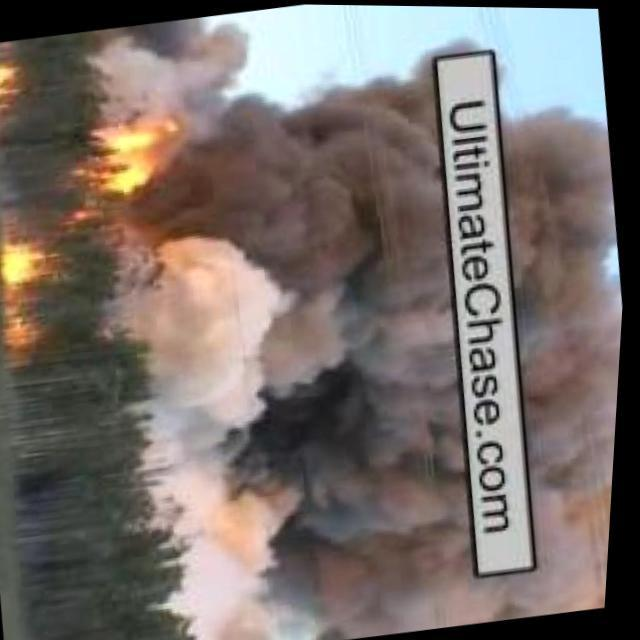fire: (80, 106, 196, 200), (4, 238, 56, 292), (5, 314, 55, 356), (1, 61, 23, 102)
